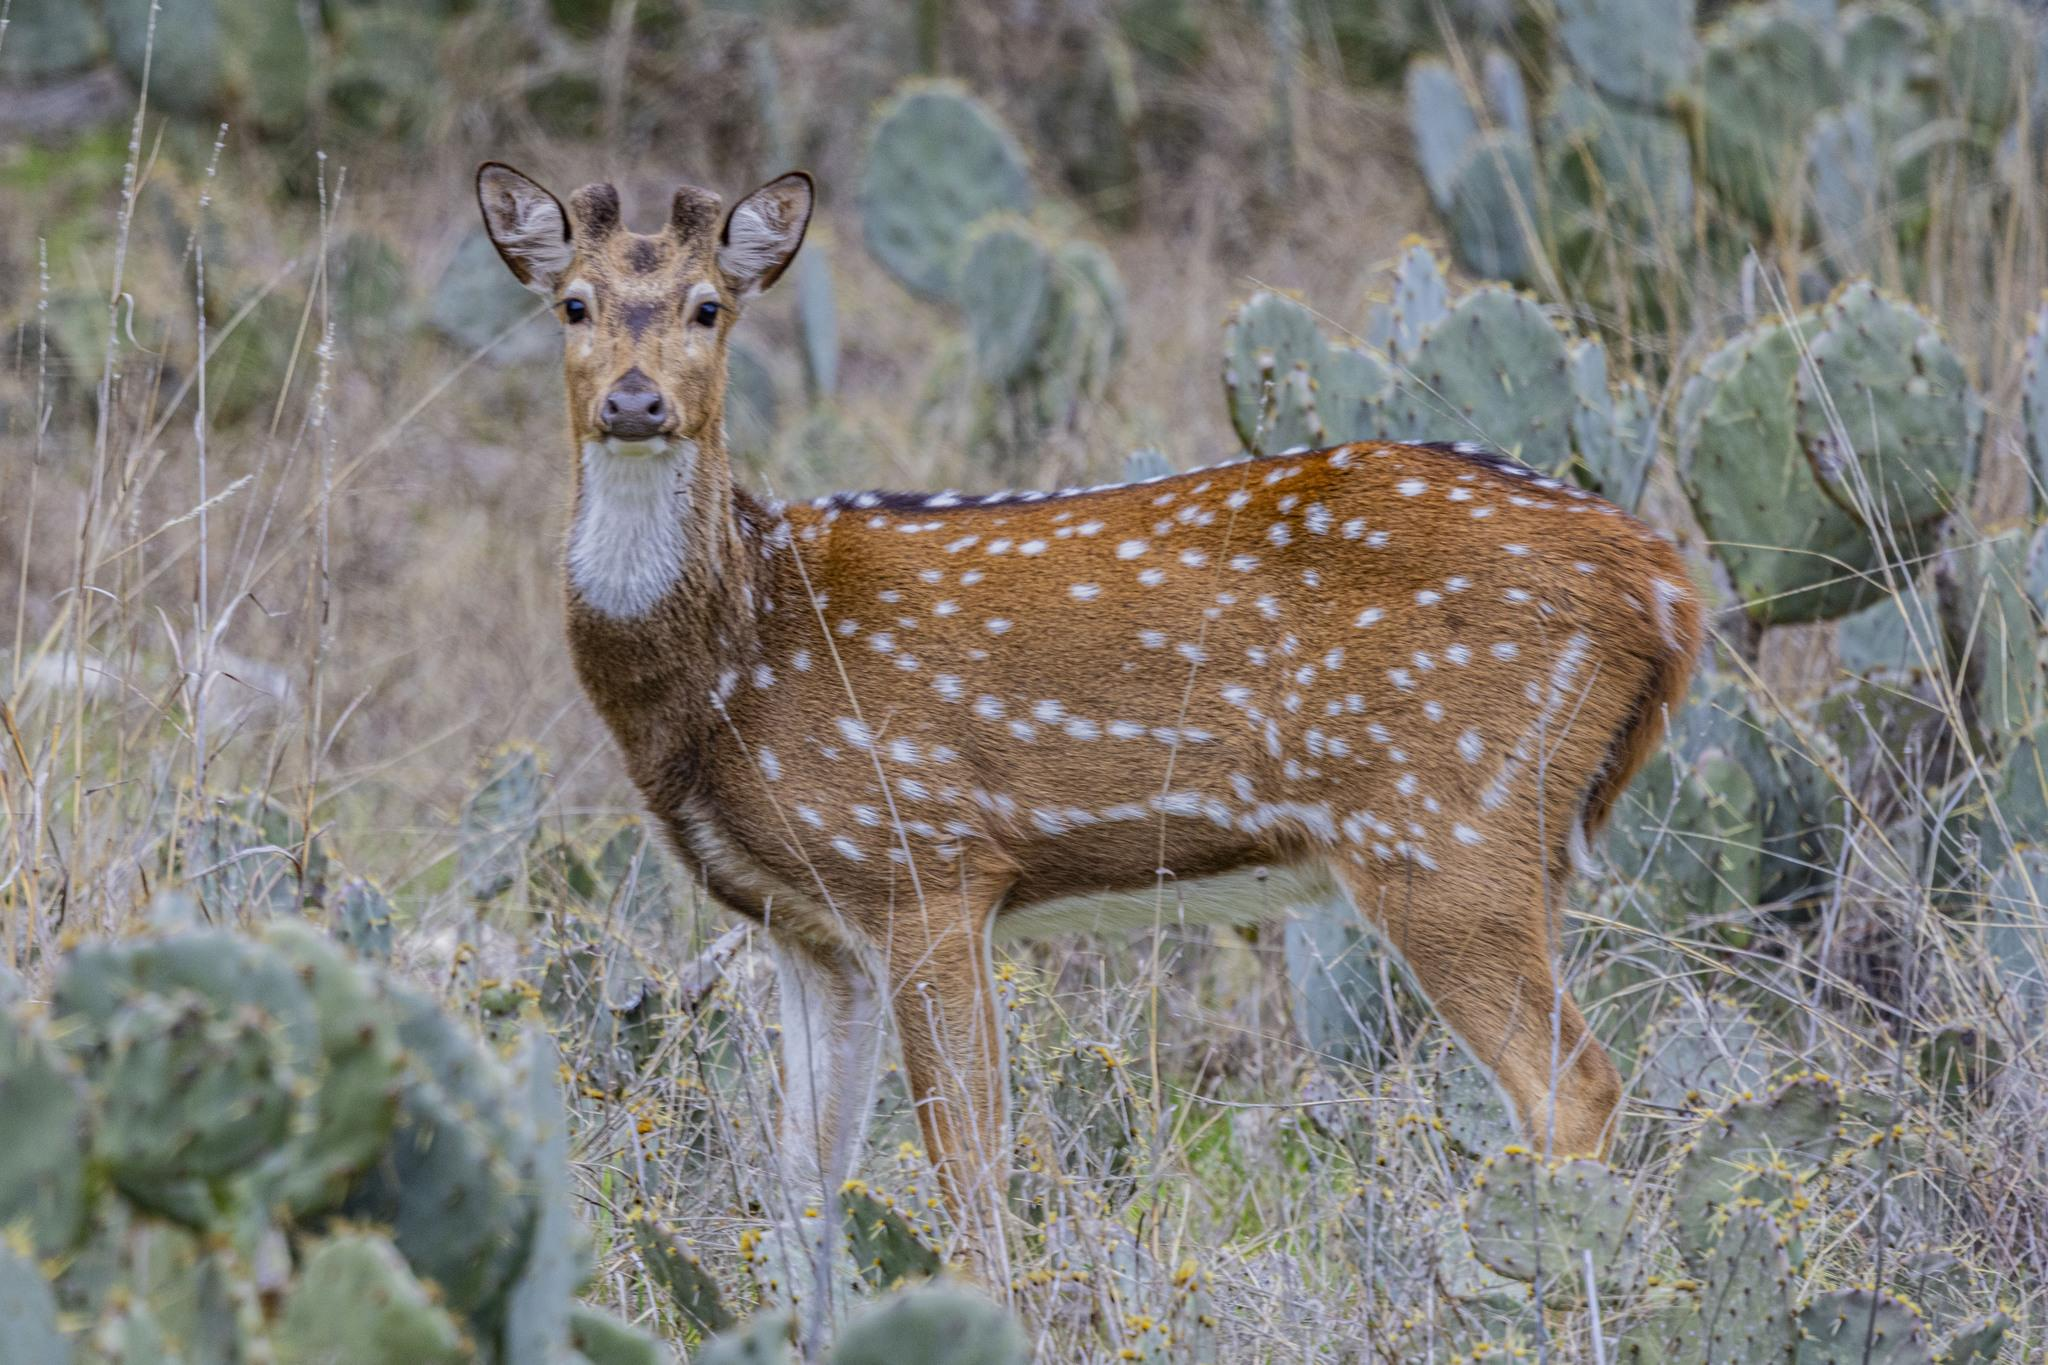Deer: (475, 163, 1701, 1277)
